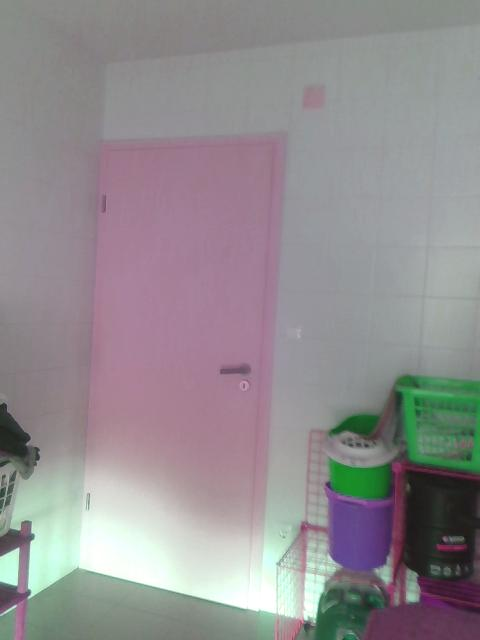closed_door: (76, 131, 287, 629)
